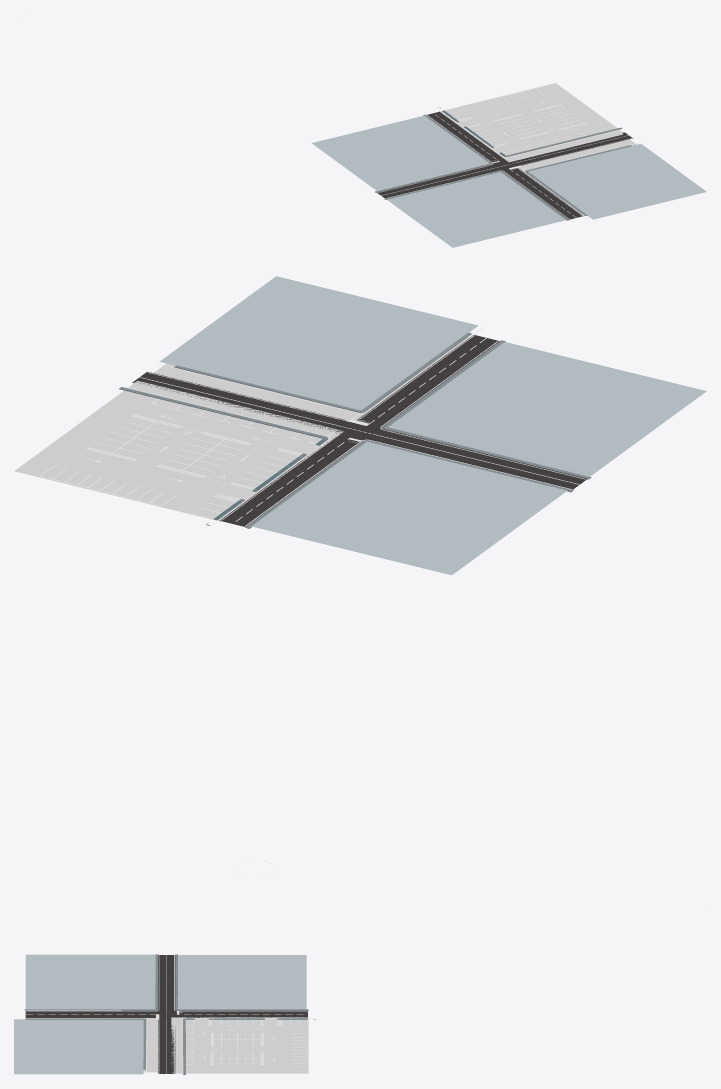
File: parking.dae
The picture shows the model from 3 angles, top to bottom: view 1: azimuth 30°, elevation 25°; view 2: azimuth 150°, elevation 25°; view 3: azimuth 270°, elevation 25°; orthographic projection. The views are drawn at different scales.
Visible parts, largest first — view 1: SketchUp_043.004, SketchUp_041, SketchUp_041.001, SketchUp_042, SketchUp_029, SketchUp_043.002, SketchUp_003, SketchUp_003.001, SketchUp_003.002; view 2: SketchUp_043.004, SketchUp_041, SketchUp_041.001, SketchUp_042, SketchUp_029, SketchUp_043.002, SketchUp_003.001, SketchUp_003.002, SketchUp_003; view 3: SketchUp_043.004, SketchUp_041, SketchUp_041.001, SketchUp_042, SketchUp_029, SketchUp_043.002, SketchUp_003.001, SketchUp_003, SketchUp_003.002.
Boxes of the visible parts, x1=… form: SketchUp_043.004: x1=439, y1=83, x2=623, y2=162; SketchUp_041: x1=387, y1=172, x2=565, y2=247; SketchUp_041.001: x1=528, y1=144, x2=706, y2=219; SketchUp_042: x1=311, y1=115, x2=488, y2=190; SketchUp_029: x1=377, y1=111, x2=632, y2=219; SketchUp_043.002: x1=517, y1=139, x2=636, y2=214; SketchUp_003: x1=375, y1=114, x2=492, y2=192; SketchUp_003.001: x1=385, y1=170, x2=568, y2=220; SketchUp_003.002: x1=525, y1=145, x2=631, y2=215; SketchUp_043.004: x1=14, y1=381, x2=343, y2=521; SketchUp_041: x1=388, y1=342, x2=706, y2=476; SketchUp_041.001: x1=159, y1=276, x2=478, y2=410; SketchUp_042: x1=251, y1=441, x2=567, y2=575; SketchUp_029: x1=132, y1=335, x2=586, y2=526; SketchUp_043.002: x1=152, y1=337, x2=470, y2=420; SketchUp_003.001: x1=382, y1=340, x2=591, y2=479; SketchUp_003.002: x1=174, y1=332, x2=472, y2=412; SketchUp_003: x1=245, y1=440, x2=573, y2=528; SketchUp_043.004: x1=171, y1=1017, x2=308, y2=1073; SketchUp_041: x1=25, y1=954, x2=155, y2=1009; SketchUp_041.001: x1=14, y1=1019, x2=143, y2=1074; SketchUp_042: x1=178, y1=955, x2=306, y2=1009; SketchUp_029: x1=25, y1=955, x2=307, y2=1073; SketchUp_043.002: x1=143, y1=1018, x2=159, y2=1072; SketchUp_003.001: x1=24, y1=954, x2=158, y2=1010; SketchUp_003: x1=175, y1=954, x2=308, y2=1010; SketchUp_003.002: x1=25, y1=1018, x2=146, y2=1069.
Bounding box in the file's own units: 140 × 246 × 0.21.
11 materials, 2 textured.
